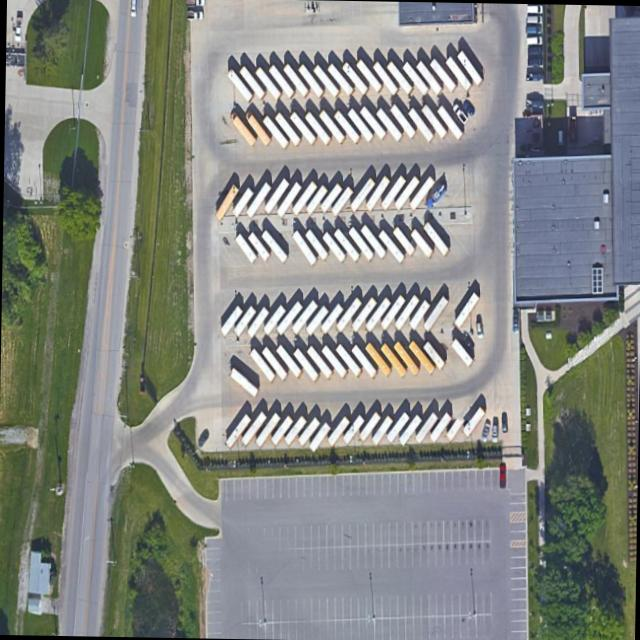large-vehicle: (242, 109, 271, 148), (228, 109, 256, 148), (357, 104, 386, 141), (272, 111, 300, 149), (331, 108, 359, 146), (266, 63, 294, 101), (370, 59, 398, 97), (223, 413, 251, 451), (452, 291, 479, 330), (287, 110, 315, 147), (374, 106, 402, 143), (259, 228, 287, 265), (376, 228, 404, 265), (225, 67, 253, 104), (378, 174, 406, 211), (311, 63, 339, 100), (325, 62, 353, 99), (385, 60, 413, 97), (247, 347, 275, 384), (291, 346, 319, 383), (303, 109, 330, 147), (388, 102, 415, 140), (406, 106, 433, 144), (435, 103, 462, 141), (262, 177, 289, 215), (274, 180, 301, 218), (290, 179, 317, 217), (281, 61, 308, 99), (334, 296, 361, 334), (392, 294, 419, 332), (455, 49, 481, 88), (422, 295, 448, 334), (316, 109, 344, 145), (253, 66, 281, 102), (296, 63, 324, 99), (414, 60, 442, 96), (346, 107, 373, 144), (419, 103, 446, 140), (392, 174, 419, 211), (407, 175, 434, 212), (341, 60, 368, 97), (355, 57, 382, 94), (401, 60, 428, 97), (428, 57, 455, 94), (260, 345, 287, 382), (290, 229, 316, 267), (363, 174, 389, 212), (364, 296, 390, 334), (379, 293, 404, 332), (332, 227, 359, 263), (421, 221, 448, 257), (348, 177, 375, 213), (238, 65, 265, 101), (275, 300, 302, 336), (290, 299, 317, 335), (274, 343, 301, 379), (333, 342, 360, 378), (363, 341, 390, 377), (407, 339, 434, 375), (347, 226, 373, 263), (359, 223, 385, 260), (444, 55, 470, 92), (254, 411, 280, 448), (350, 296, 376, 333), (392, 340, 418, 377), (260, 115, 288, 149), (319, 344, 346, 379), (379, 342, 405, 378), (240, 411, 266, 447), (228, 367, 258, 398), (245, 182, 270, 219), (214, 183, 238, 221), (305, 345, 331, 380), (349, 343, 375, 378), (303, 228, 328, 262), (320, 230, 345, 264), (460, 405, 485, 438), (397, 413, 421, 447), (413, 411, 437, 445), (245, 305, 268, 340), (390, 224, 414, 257), (408, 227, 432, 260), (232, 305, 256, 338), (261, 304, 285, 337), (282, 415, 306, 447), (233, 232, 256, 265), (246, 231, 269, 264), (230, 185, 253, 218), (304, 184, 327, 217), (385, 411, 408, 444), (269, 414, 292, 447), (304, 304, 327, 337), (318, 182, 342, 213), (219, 305, 242, 337), (329, 185, 352, 217), (307, 421, 330, 453), (326, 415, 349, 447), (428, 411, 451, 443), (296, 416, 319, 448), (319, 303, 342, 335), (407, 299, 430, 331), (449, 337, 472, 369), (370, 414, 392, 447), (421, 340, 444, 371), (341, 413, 363, 445), (358, 411, 380, 443), (444, 414, 464, 442)
small-vehicle: (422, 179, 447, 213), (450, 102, 468, 126), (193, 429, 209, 450), (478, 419, 490, 444), (461, 97, 476, 116), (474, 317, 484, 341), (525, 68, 542, 82), (490, 417, 498, 444), (526, 55, 542, 68), (496, 462, 504, 488), (524, 4, 542, 15), (524, 98, 542, 109), (184, 10, 202, 21), (527, 45, 542, 57), (524, 24, 540, 35), (525, 35, 541, 46), (525, 14, 542, 24), (511, 307, 517, 334), (500, 412, 507, 434)
